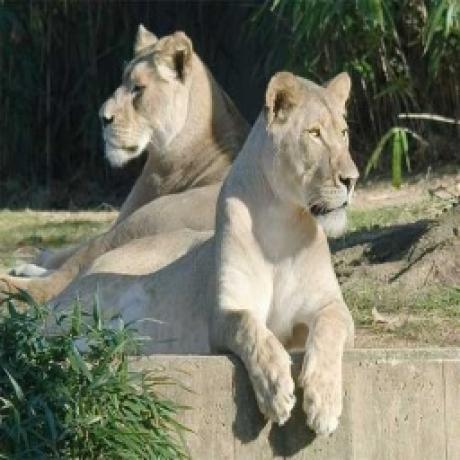Lion: (0, 67, 363, 436), (93, 14, 247, 199)
